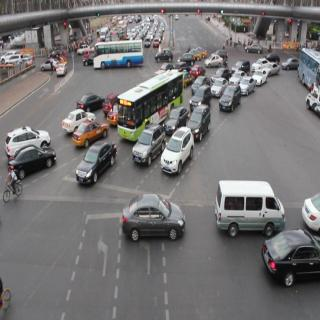BigCar: (118, 72, 184, 138), (96, 40, 151, 71)
Car: (121, 186, 189, 246), (256, 240, 320, 295), (214, 184, 283, 235), (161, 127, 193, 182), (80, 137, 114, 188), (12, 146, 60, 179), (5, 125, 52, 154), (135, 123, 162, 166), (188, 106, 210, 141), (77, 92, 105, 114), (239, 71, 256, 103), (253, 65, 269, 96), (223, 85, 240, 111)
